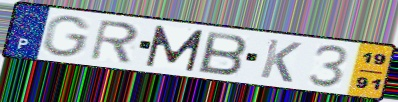3: (307, 44, 351, 89)
B: (197, 30, 250, 77)
G: (41, 14, 94, 59)
K: (257, 37, 304, 85)
M: (143, 24, 207, 73)
R: (88, 19, 141, 65)
